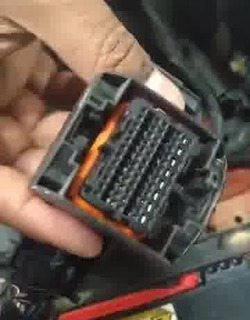connector: (28, 70, 228, 268)
